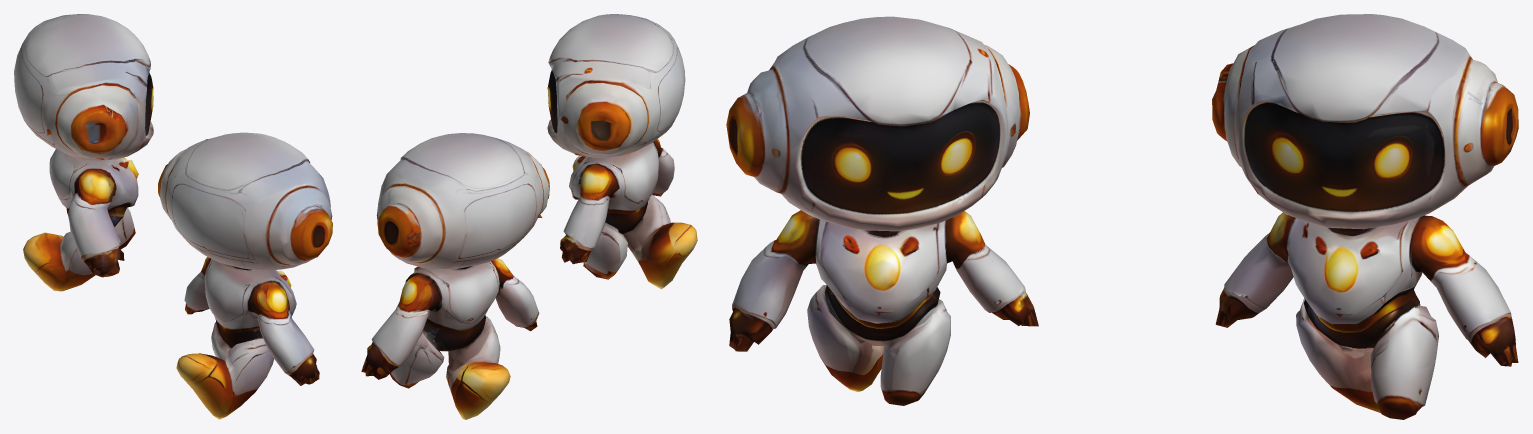
Rendered from robot.glb.
3 renders of one model, left to right at view 1: azimuth 30°, elevation 25°; view 2: azimuth 150°, elevation 25°; view 3: azimuth 270°, elevation 25°, orthographic. The views are drawn at different scales.
Parts seen in each view (by area): view 1: tripo_node_5d3f0c68-19c7-4cf1-b356-9d2878b60c2e; view 2: tripo_node_5d3f0c68-19c7-4cf1-b356-9d2878b60c2e; view 3: tripo_node_5d3f0c68-19c7-4cf1-b356-9d2878b60c2e.
Boxes of the visible parts, left/top/right/bottom form: tripo_node_5d3f0c68-19c7-4cf1-b356-9d2878b60c2e: left=14, top=14, right=332, bottom=419; tripo_node_5d3f0c68-19c7-4cf1-b356-9d2878b60c2e: left=361, top=14, right=697, bottom=419; tripo_node_5d3f0c68-19c7-4cf1-b356-9d2878b60c2e: left=726, top=14, right=1518, bottom=419.
Bounding box in the file's own units: 0.2905 × 0.5578 × 1.
1 material, 1 textured.
